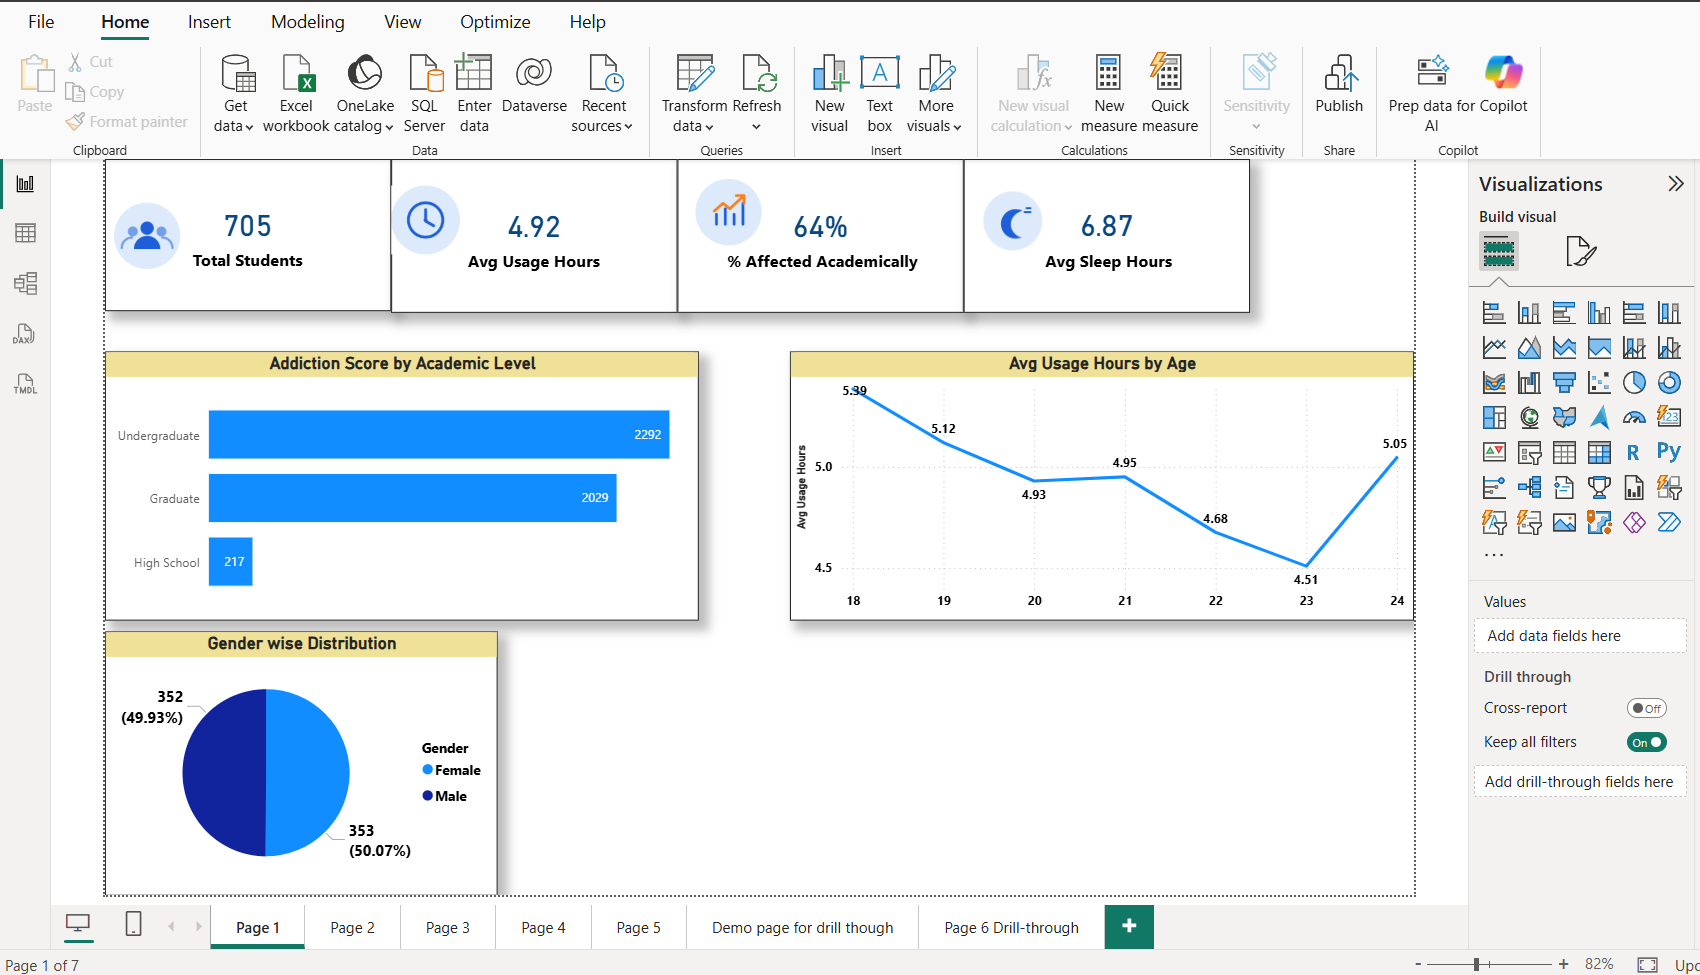

The dashboard page shown, as its layout file describes it:
{"tool":"powerbi","page":{"name":"Page 1","canvas":[1280,720],"ordinal":0},"visuals":[{"type":"card","fields":{"Values":["CountNonNull(Student Details.Student_ID)"]},"box":[0,0,280,148.8],"z":0},{"type":"card","fields":{"Values":["TableDAX.02 Avg Usage Hours"]},"box":[280.1,0,280.1,150.1],"z":1000},{"type":"card","fields":{"Values":["TableDAX.03 % Affected Academically"]},"box":[560.1,0,280,150.4],"z":2000},{"type":"card","fields":{"Values":["TableDAX.01 Avg Sleep Hours"]},"box":[840,0,280,150],"z":3000},{"type":"barChart","title":"Addiction Score by Academic Level","fields":{"Category":["Student Details.Academic_Level"],"Y":["Sum(Student Details.Addicted_Score)"]},"box":[0,188.3,580.8,262.9],"z":4000},{"type":"lineChart","title":"Avg Usage Hours by Age","fields":{"Category":["Student Details.Age"],"Y":["TableDAX.02 Avg Usage Hours"]},"box":[670.1,188.3,610.2,262.9],"z":5000},{"type":"pieChart","title":" Gender wise Distribution","fields":{"Category":["Student Details.Gender"],"Y":["CountNonNull(Student Details.Gender)"]},"box":[0,462.2,384,258],"z":6000},{"type":"image","box":[0,42.8,81.9,64.8],"z":6001},{"type":"image","box":[280,24.5,67.3,69.7],"z":6002},{"type":"image","box":[560.1,19.6,100.3,64.8],"z":6003},{"type":"image","box":[840.1,31.8,96.6,57.5],"z":6004}]}

Visuals, with their boxes on the page's 1280x720 design canvas (x1, y1, x2, y2). These are canvas units, not pixel positions in the 1700x975 screenshot, which may show the page scaled, cropped or inside an application window:
card - CountNonNull(Student Details.Student_ID): (left=0, top=0, right=280, bottom=149)
card - TableDAX.02 Avg Usage Hours: (left=280, top=0, right=560, bottom=150)
card - TableDAX.03 % Affected Academically: (left=560, top=0, right=840, bottom=150)
card - TableDAX.01 Avg Sleep Hours: (left=840, top=0, right=1120, bottom=150)
"Addiction Score by Academic Level" barChart: (left=0, top=188, right=581, bottom=451)
"Avg Usage Hours by Age" lineChart: (left=670, top=188, right=1280, bottom=451)
" Gender wise Distribution" pieChart: (left=0, top=462, right=384, bottom=720)
image: (left=0, top=43, right=82, bottom=108)
image: (left=280, top=24, right=347, bottom=94)
image: (left=560, top=20, right=660, bottom=84)
image: (left=840, top=32, right=937, bottom=89)
